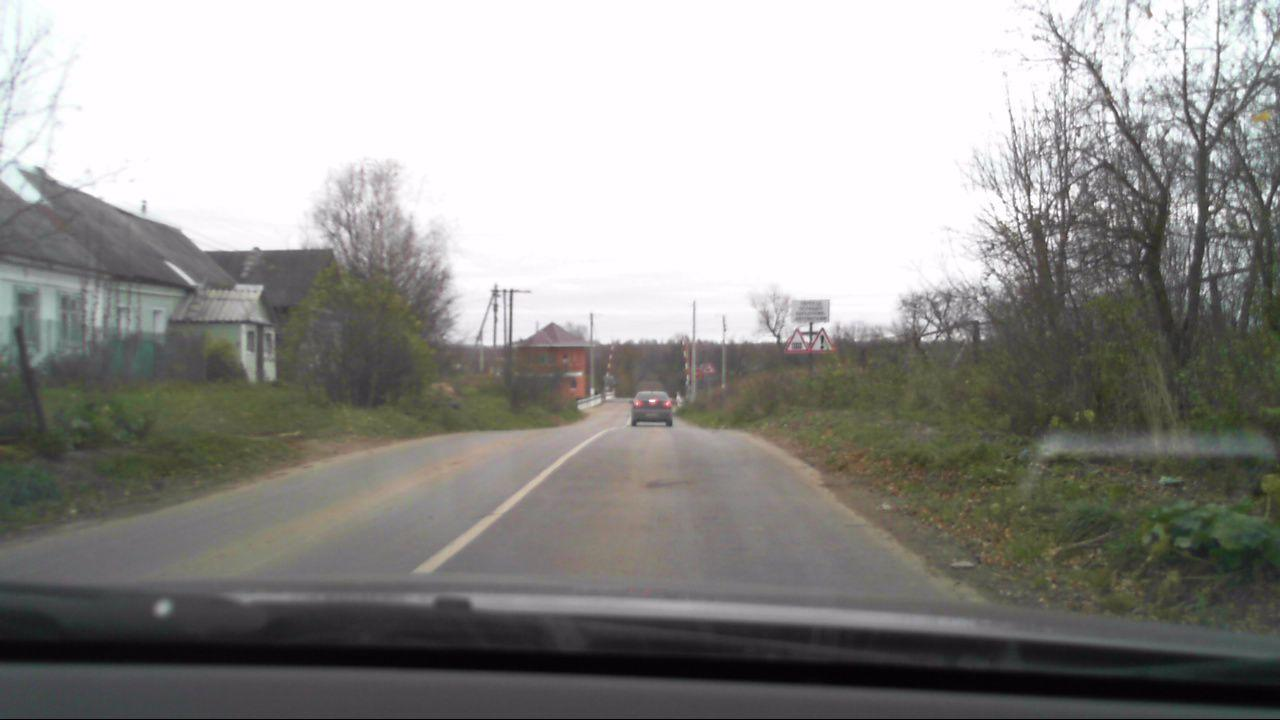1_1: (784, 327, 808, 353)
1_33: (809, 321, 836, 354)
